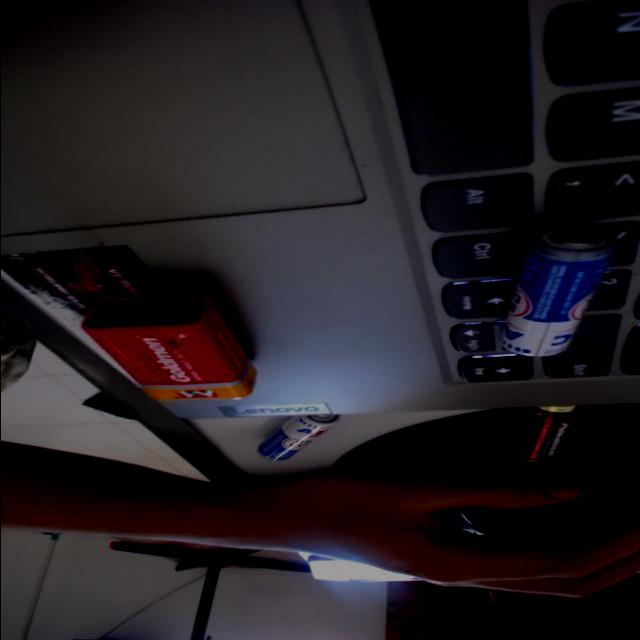9V: (75, 277, 268, 407)
AA: (472, 218, 640, 365), (496, 396, 600, 464), (254, 404, 346, 466)
